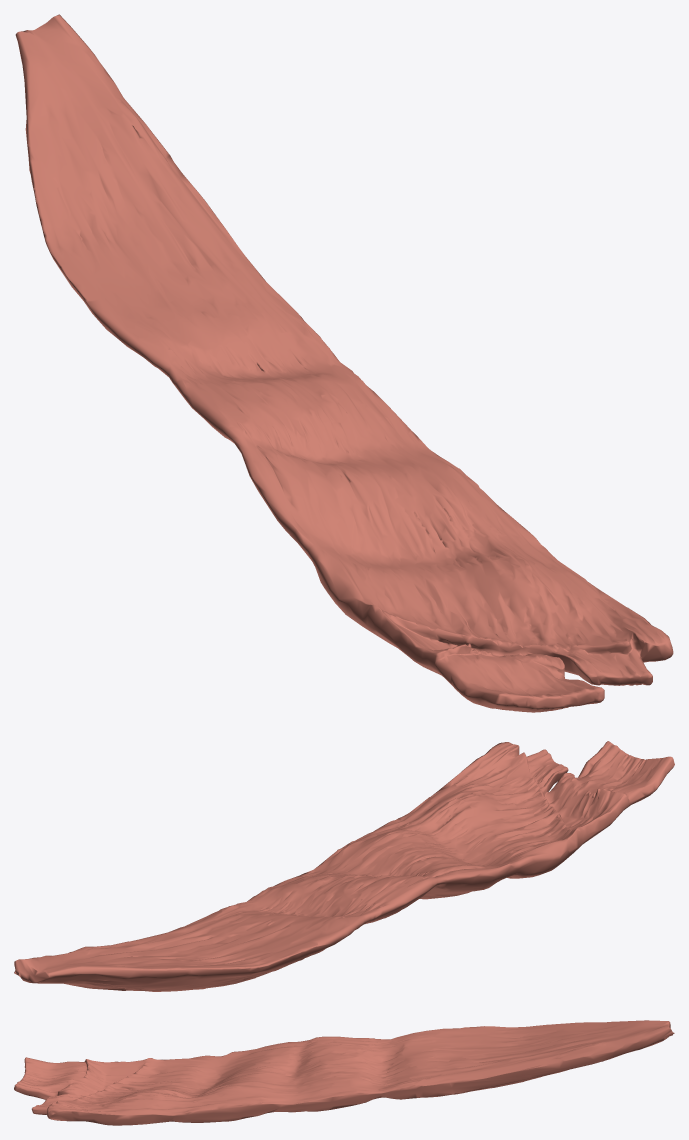
3 renders of one model, top to bottom at view 1: azimuth 30°, elevation 25°; view 2: azimuth 150°, elevation 25°; view 3: azimuth 270°, elevation 25°, orthographic. The views are drawn at different scales.
Visible parts, largest first — view 1: 右侧腹直肌; view 2: 右侧腹直肌; view 3: 右侧腹直肌.
Part boxes in pixels (bbox=[...]): 右侧腹直肌: bbox=[15, 14, 673, 712]; 右侧腹直肌: bbox=[14, 741, 674, 991]; 右侧腹直肌: bbox=[14, 1020, 674, 1125].
Size of the model in its own units: 0.1158 by 0.11 by 0.6018.
